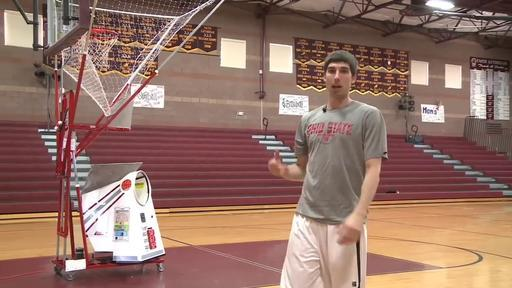human: (268, 49, 388, 288)
rim: (84, 29, 119, 69)
